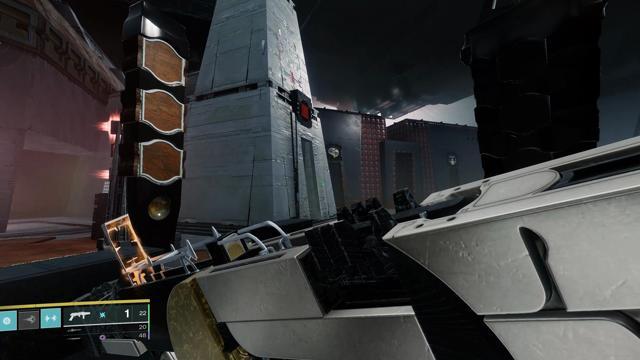brain: (327, 145, 340, 160)
drink: (447, 154, 458, 166)
stop: (299, 100, 311, 122)
